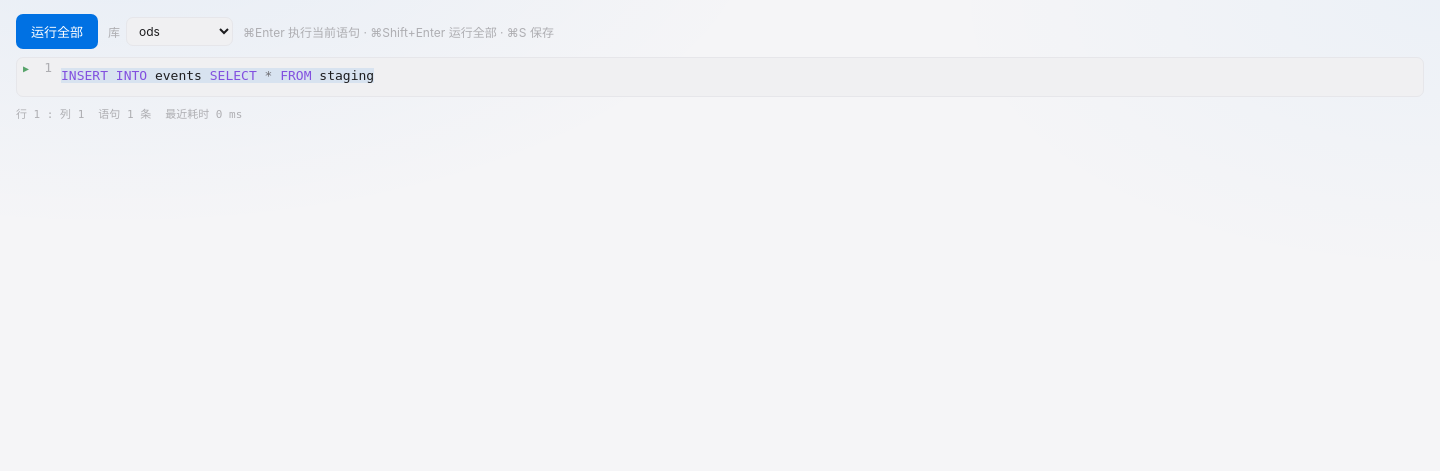
Test: HiveSqlConsole › 含 DML 的脚本不显示分页条(重放会重复执行)
Click the button with test id "btn-hive-run" at [57, 32], box [16,14,98,49]
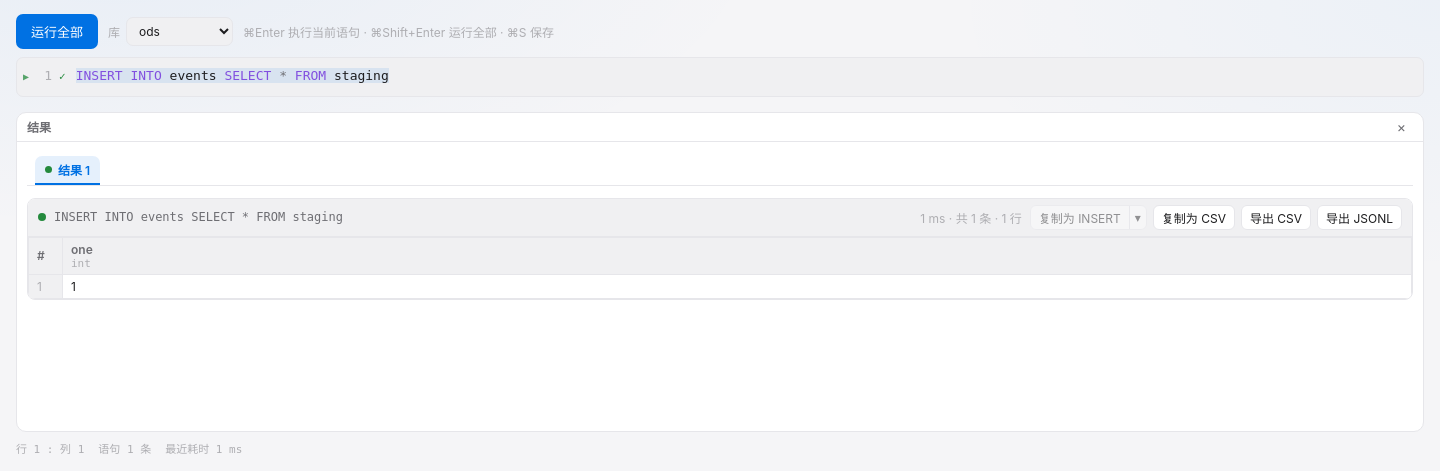
Now the number of "SqlResultCard" components is 1, box [27,198,1413,300]
